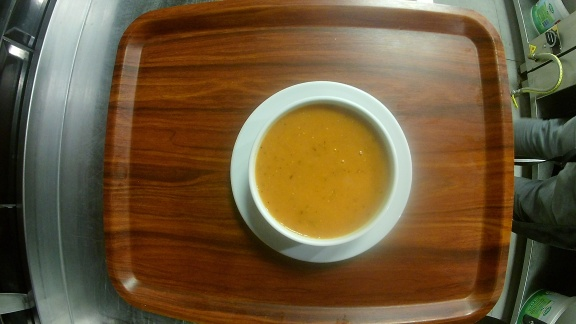ezogelin: (231, 81, 413, 264)
